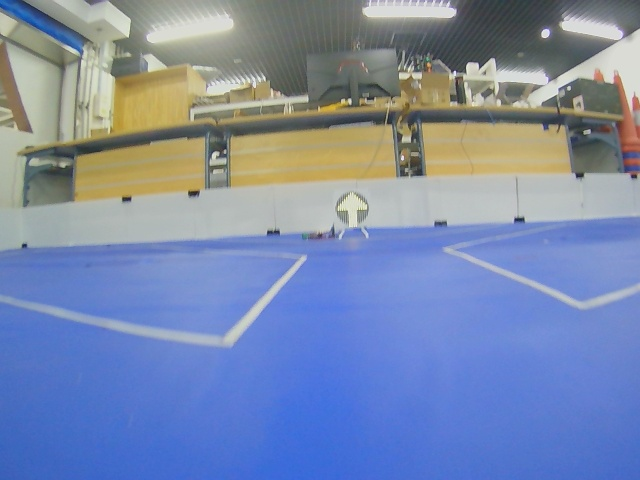straight_yellow: (336, 191, 369, 228)
